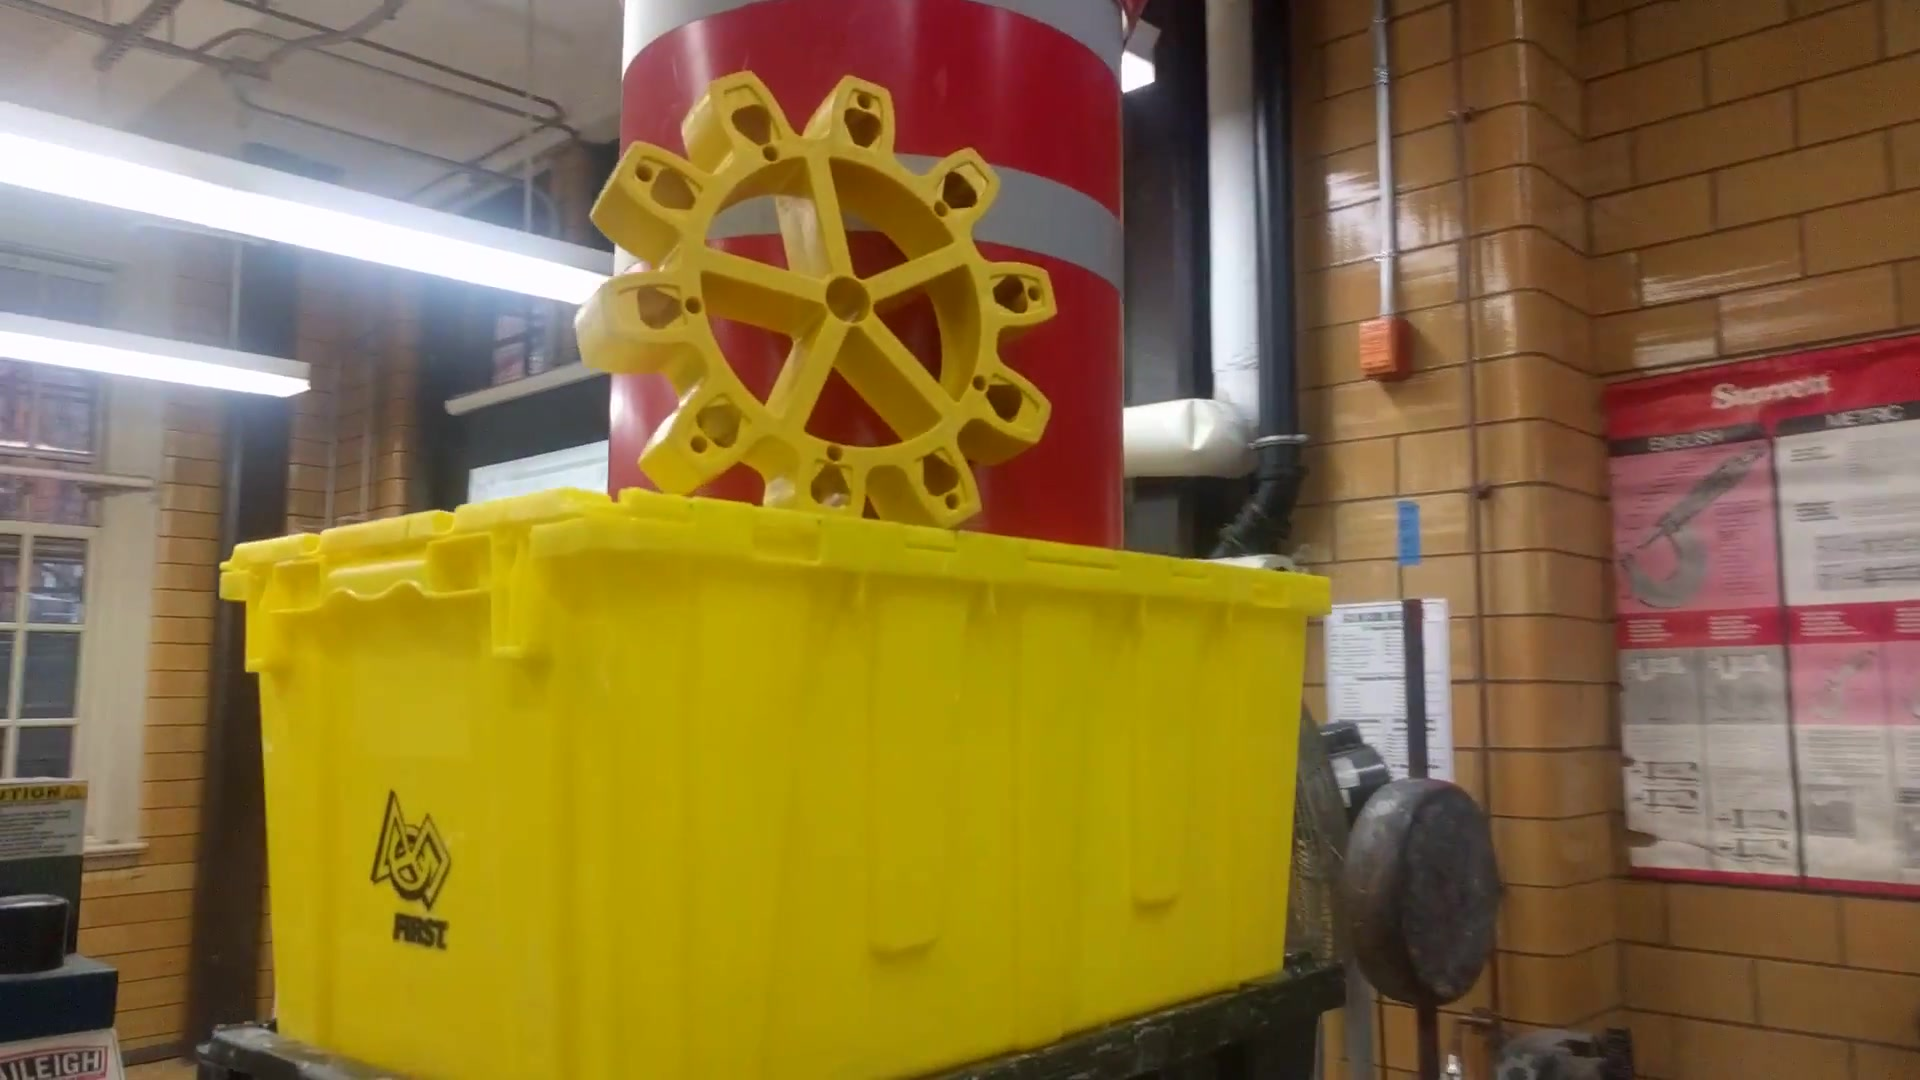gear: (566, 65, 1077, 582)
